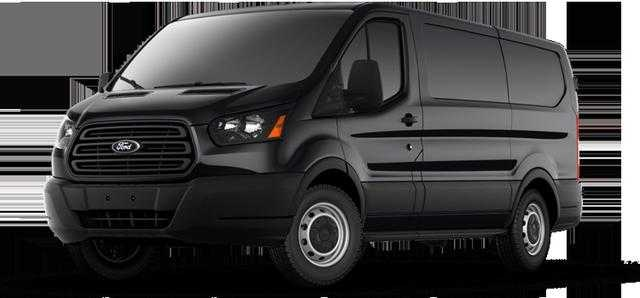van: (43, 2, 582, 290)
